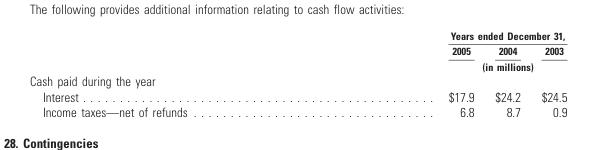table: (28, 28, 566, 119)
table column: (28, 28, 317, 119), (317, 28, 483, 119), (483, 28, 530, 119), (530, 28, 566, 119)
table column header: (28, 28, 566, 72)
table projected row header: (28, 72, 566, 88)
table row: (28, 42, 566, 58), (28, 72, 566, 88), (28, 103, 566, 119), (28, 88, 566, 103), (28, 28, 566, 42), (28, 58, 566, 72)
table spanning cell: (317, 28, 566, 42), (317, 58, 566, 72)
